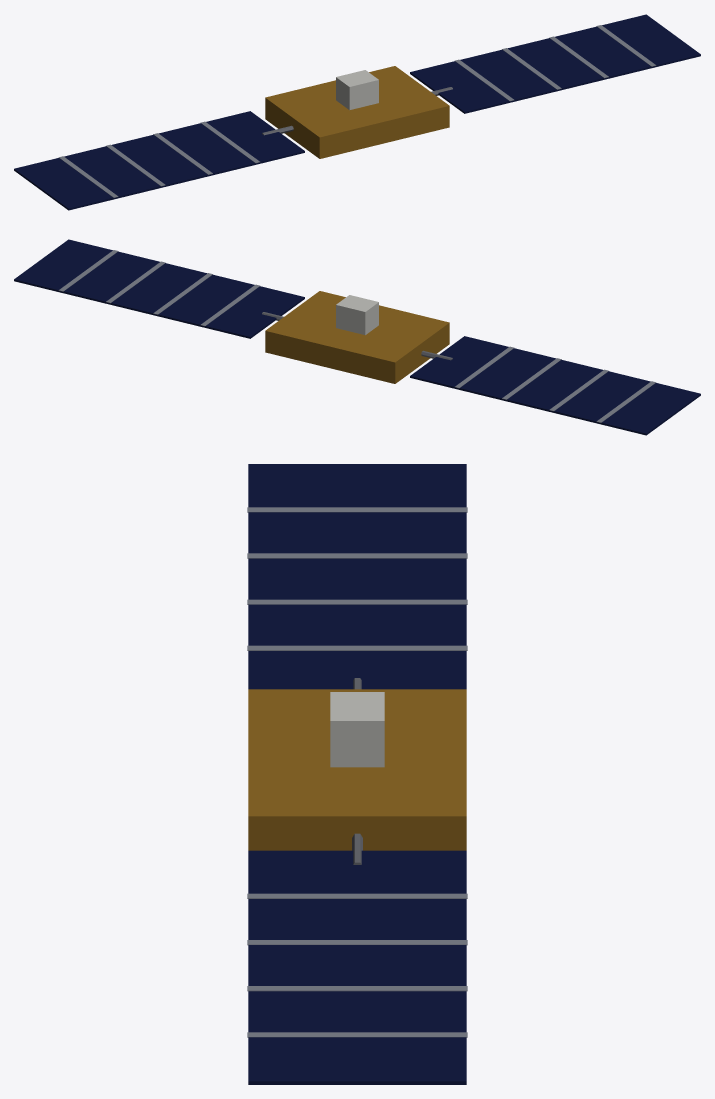
Rendered from flatsat.glb.
3 renders of one model, top to bottom at view 1: azimuth 30°, elevation 25°; view 2: azimuth 150°, elevation 25°; view 3: azimuth 270°, elevation 25°, orthographic. The views are drawn at different scales.
Visible parts, largest first — view 1: flatsat; view 2: flatsat; view 3: flatsat.
Boxes of the visible parts, left/top/right/bottom form: flatsat: left=14, top=14, right=700, bottom=210; flatsat: left=14, top=239, right=700, bottom=435; flatsat: left=247, top=464, right=467, bottom=1084.
Bounding box in the file's own units: 10.7 × 0.77 × 1.62.
